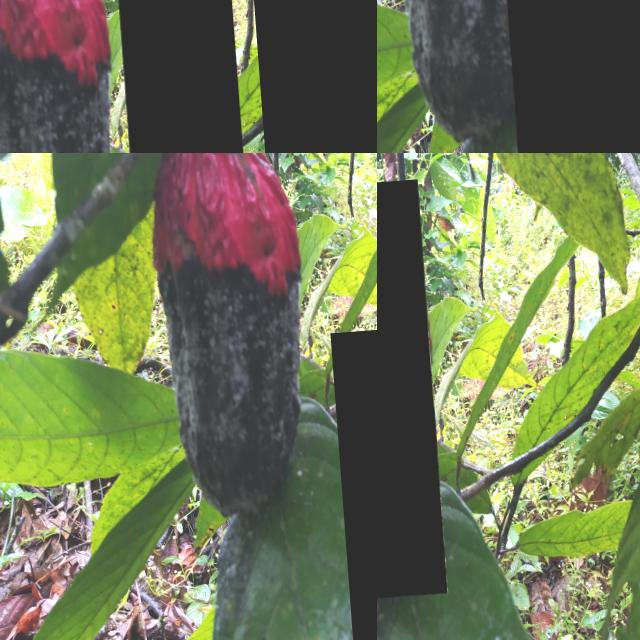Fitoftora: (377, 184, 440, 607), (489, 0, 640, 153), (246, 0, 377, 153), (113, 0, 241, 153)
Monilia: (325, 328, 377, 640)
